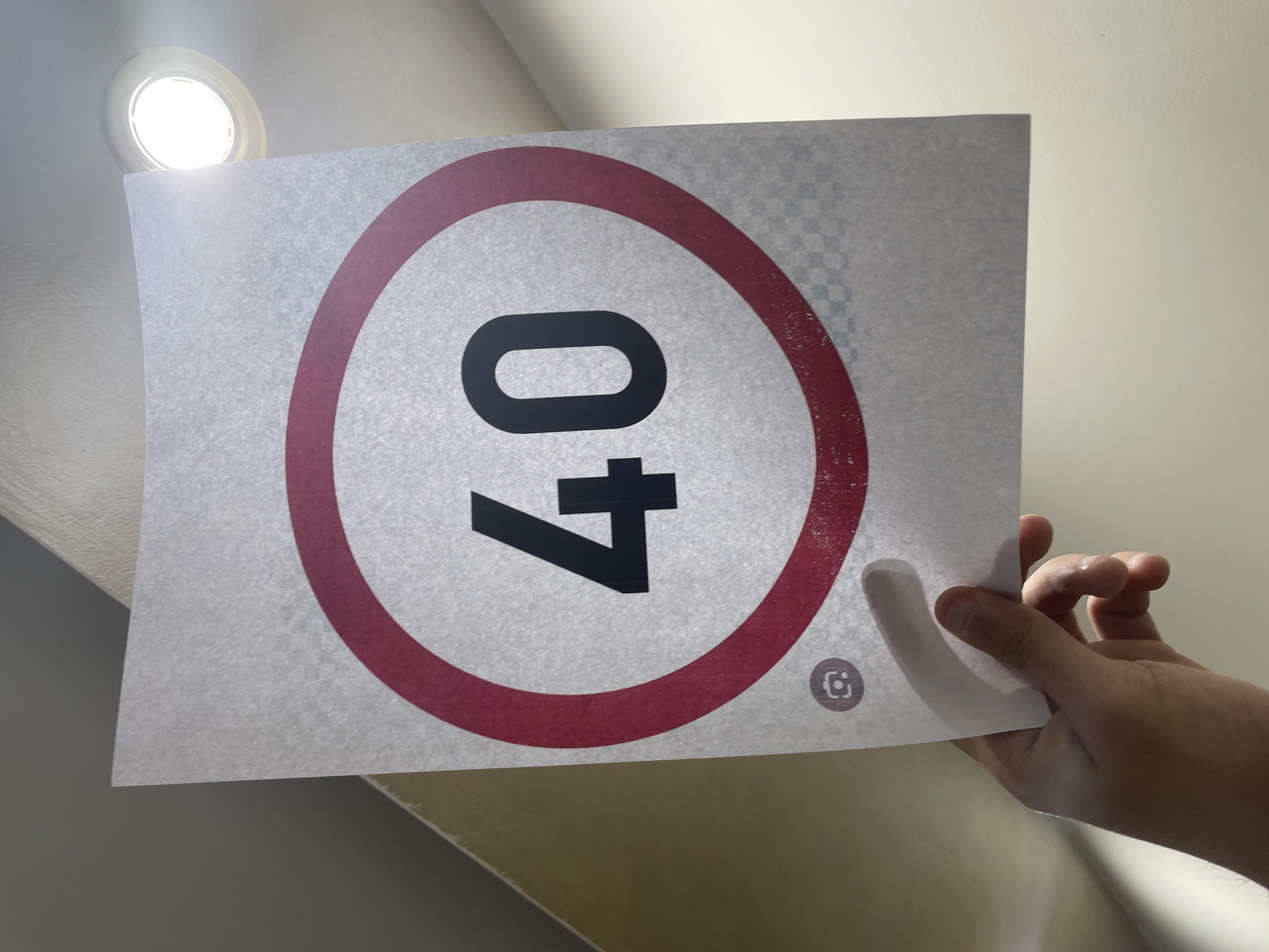40-Speed: (265, 218, 1060, 632)
